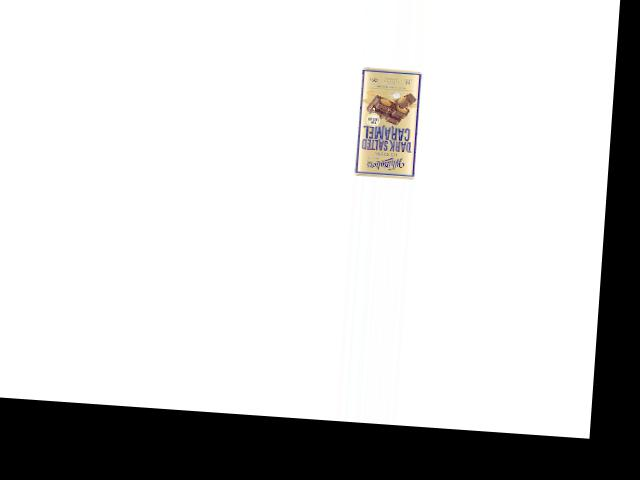chocolate: (350, 64, 423, 178)
